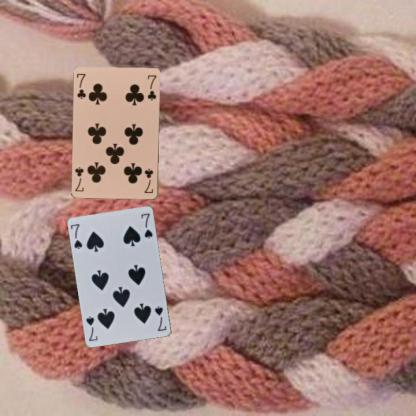7c: (74, 72, 87, 100), (142, 167, 154, 194)
7s: (68, 221, 84, 251), (152, 303, 168, 332)
